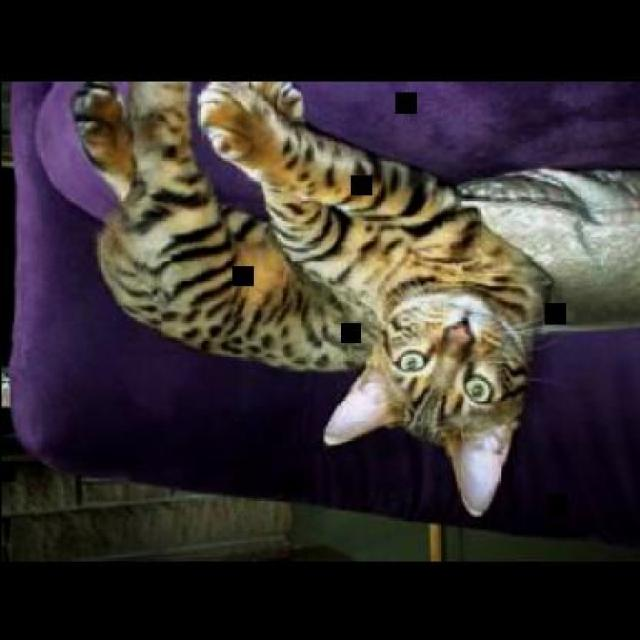unauthorized: (194, 78, 555, 517), (69, 80, 382, 374)
